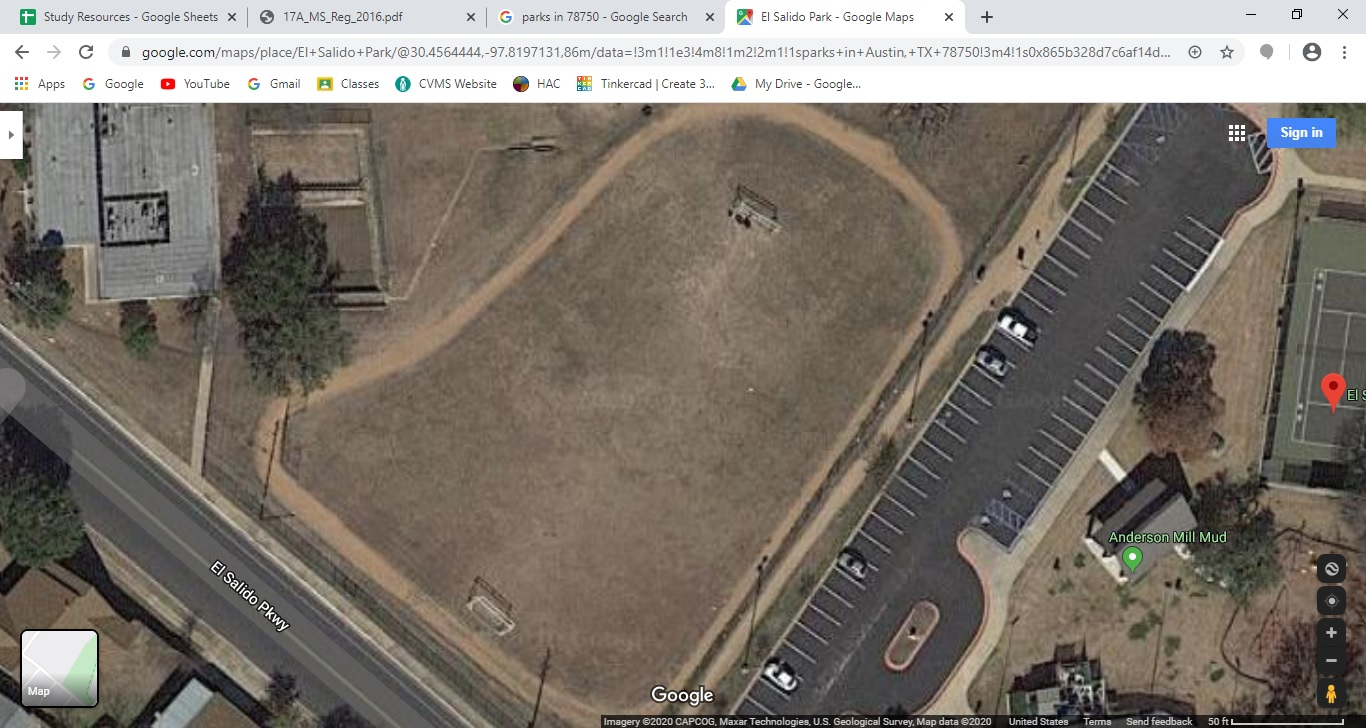soccer: (548, 148, 842, 625)
